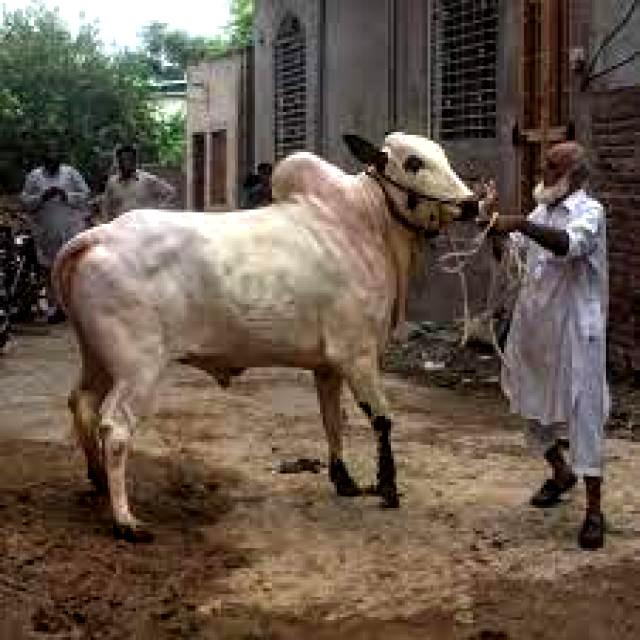COW: (52, 131, 475, 539)
